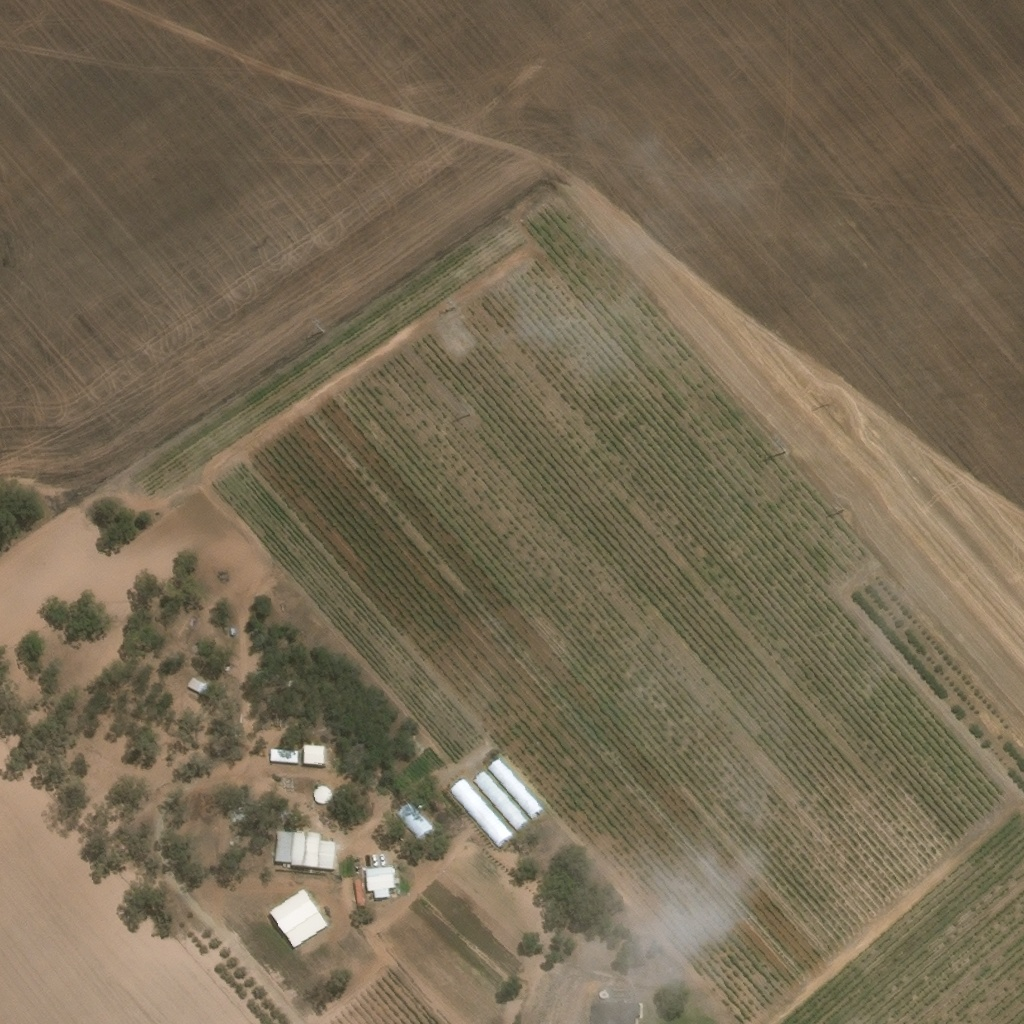0 no-damage: (473, 770, 529, 832), (393, 798, 439, 845), (589, 998, 644, 1023), (293, 829, 323, 867), (366, 866, 396, 897), (276, 828, 296, 862), (271, 747, 301, 762), (188, 675, 210, 694), (314, 785, 334, 804), (355, 877, 367, 905), (319, 757, 329, 766), (599, 991, 609, 999)
